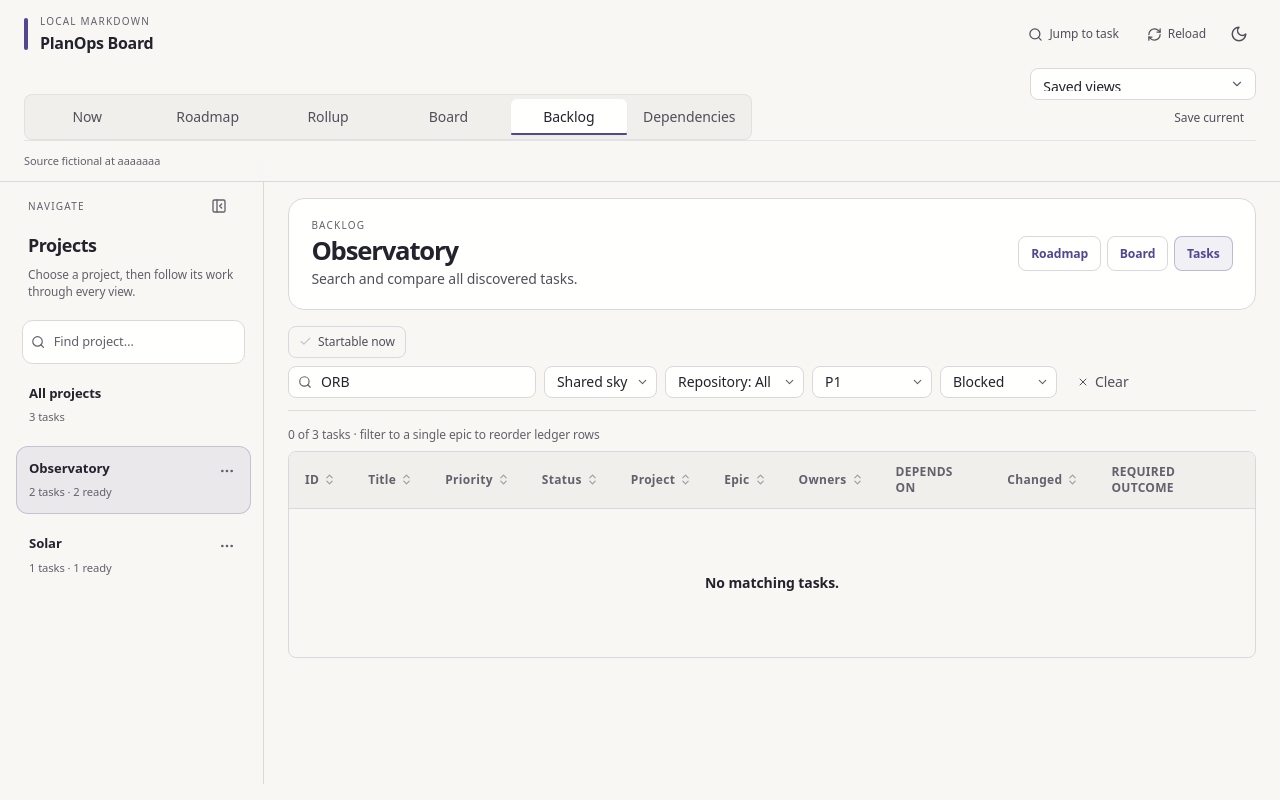
Test: Roadmap in the real App › opens a new project without stale row filters or grouping
Click the button "Solar 1 tasks · 1 ready": click(134, 555) [16,521,251,589]
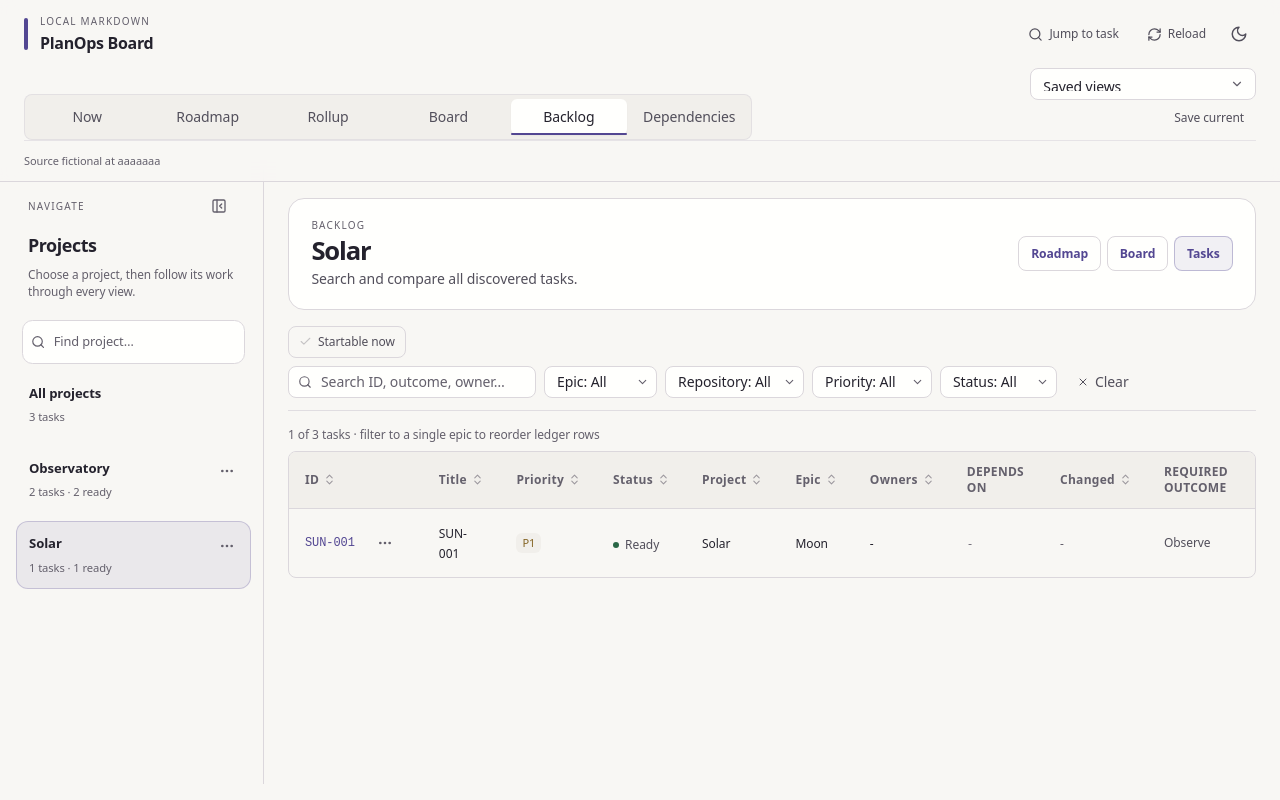
Check: the button "SUN-001" is shown, box [305,534,355,550]
Check: the search field with placeholder "Search ID, outcome, owner…" is empty, box [288,366,536,398]
